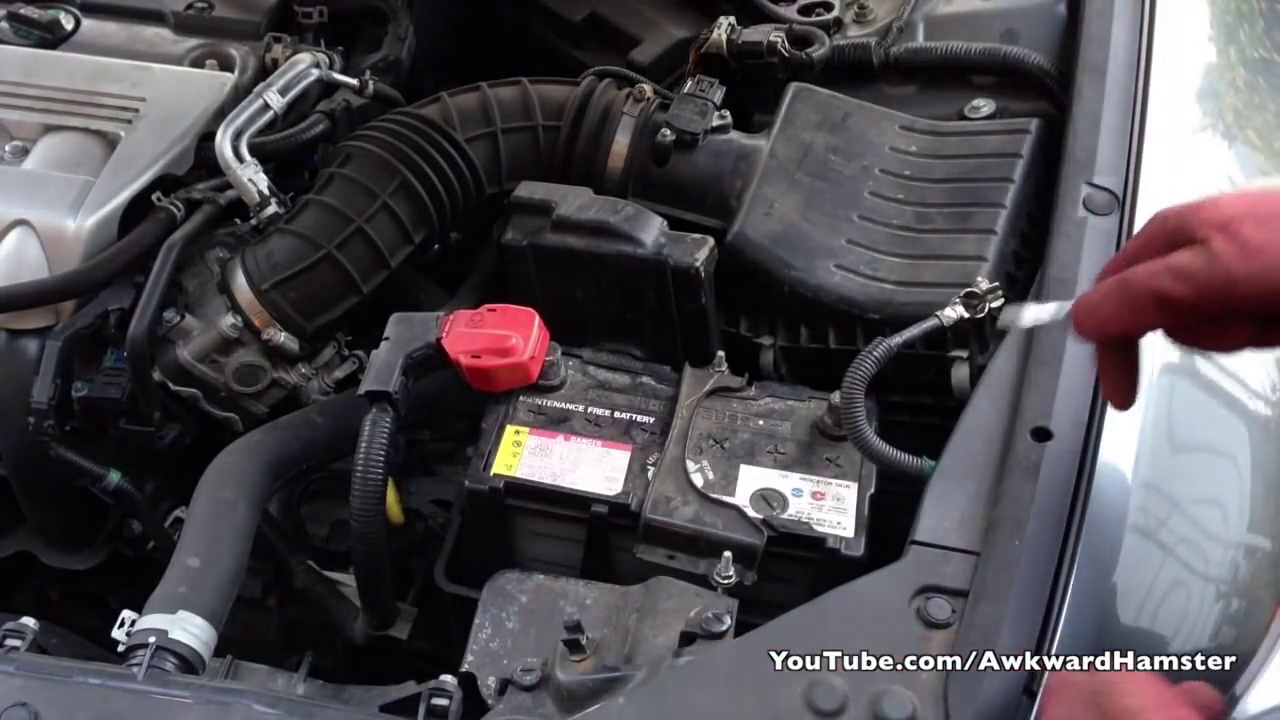battery: (461, 319, 876, 559)
neg_disconnected: (792, 372, 888, 454)
pos_connected: (407, 282, 572, 396)
